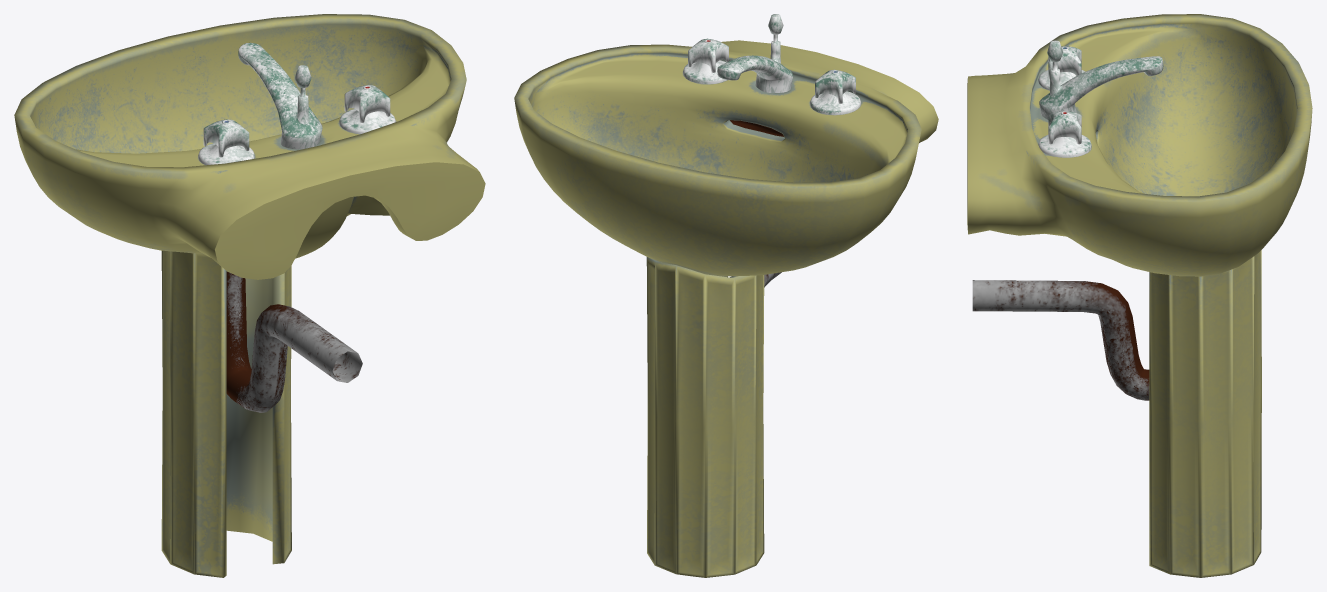
File: Room_Sink_Type_001.fbx
The picture shows the model from 3 angles, left to right: view 1: azimuth 30°, elevation 25°; view 2: azimuth 150°, elevation 25°; view 3: azimuth 270°, elevation 25°; orthographic projection. The views are drawn at different scales.
Visible parts, largest first — view 1: Lavandino.001; view 2: Lavandino.001; view 3: Lavandino.001.
Part boxes in pixels (x1=…): Lavandino.001: x1=14, y1=14, x2=485, y2=577; Lavandino.001: x1=514, y1=14, x2=938, y2=577; Lavandino.001: x1=967, y1=14, x2=1312, y2=577.
Size of the model in its own units: 58.05 by 75.1 by 95.02.
